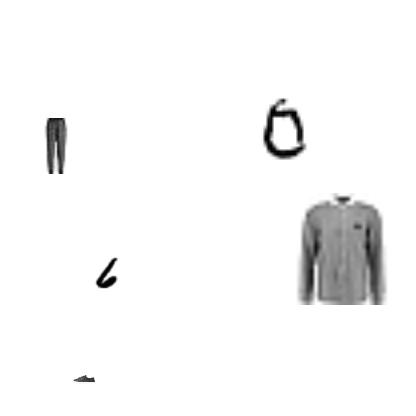0: (240, 87, 324, 171)
6: (86, 255, 128, 297)
Shirt: (286, 193, 398, 305)
Sneaker: (73, 368, 95, 390)
Trouser: (27, 118, 83, 174)
